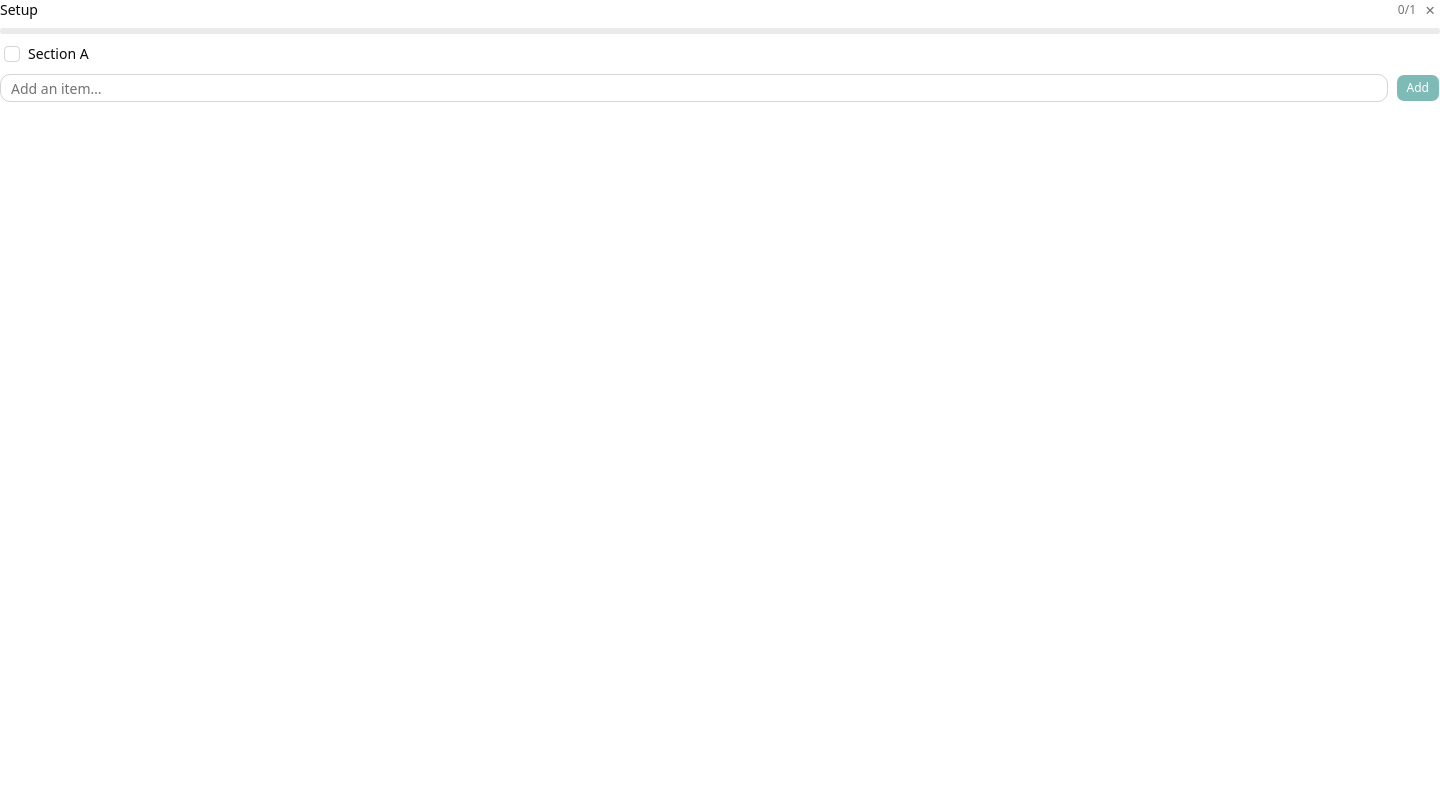
Test case: TaskChecklist › words on translation projects › rejects an invalid word count without saving
The image size is (1440, 810).
Click the text "Section A" at (58, 54), box [28,44,89,63]
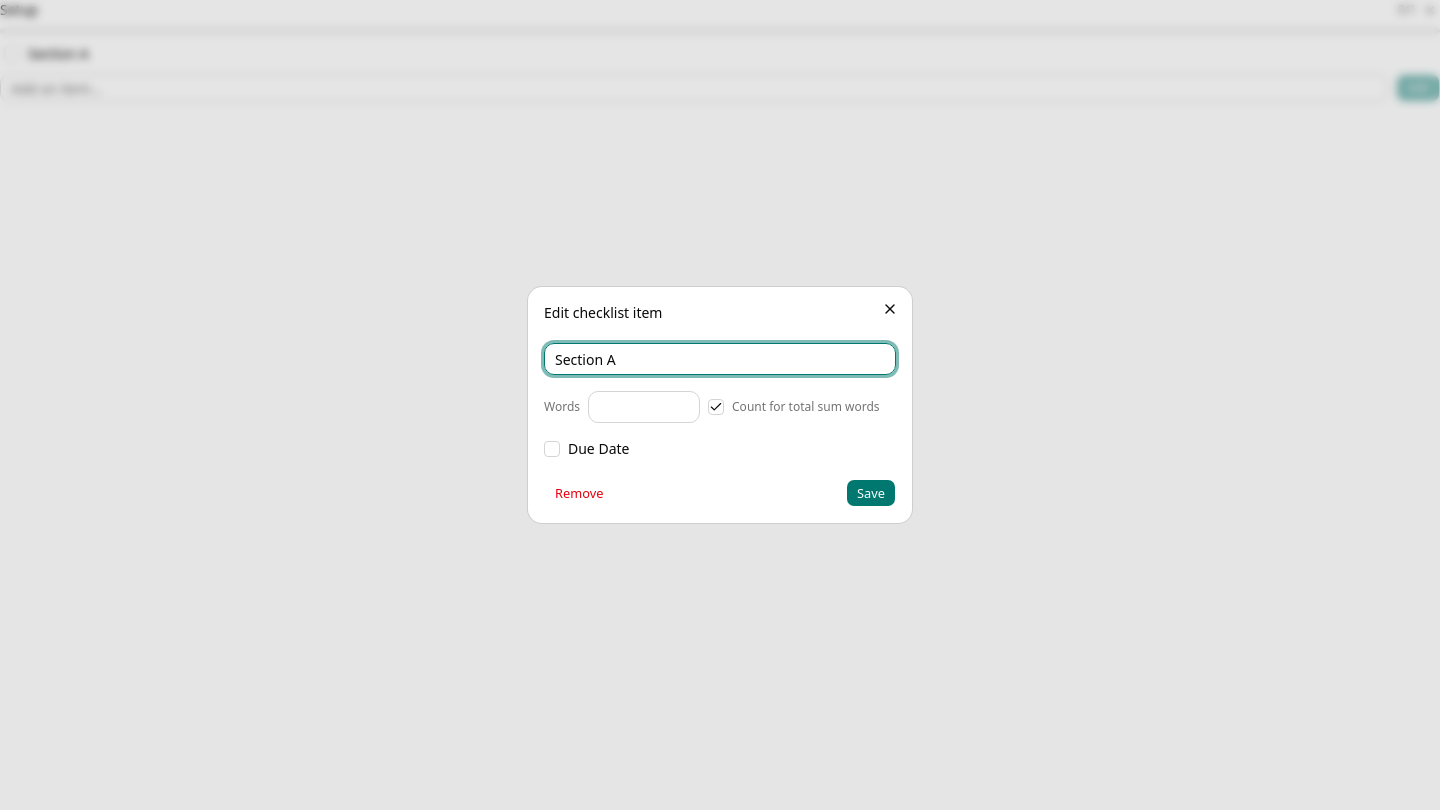
Type "-5" into the field labelled "Words" at (644, 407), box [588,391,700,423]
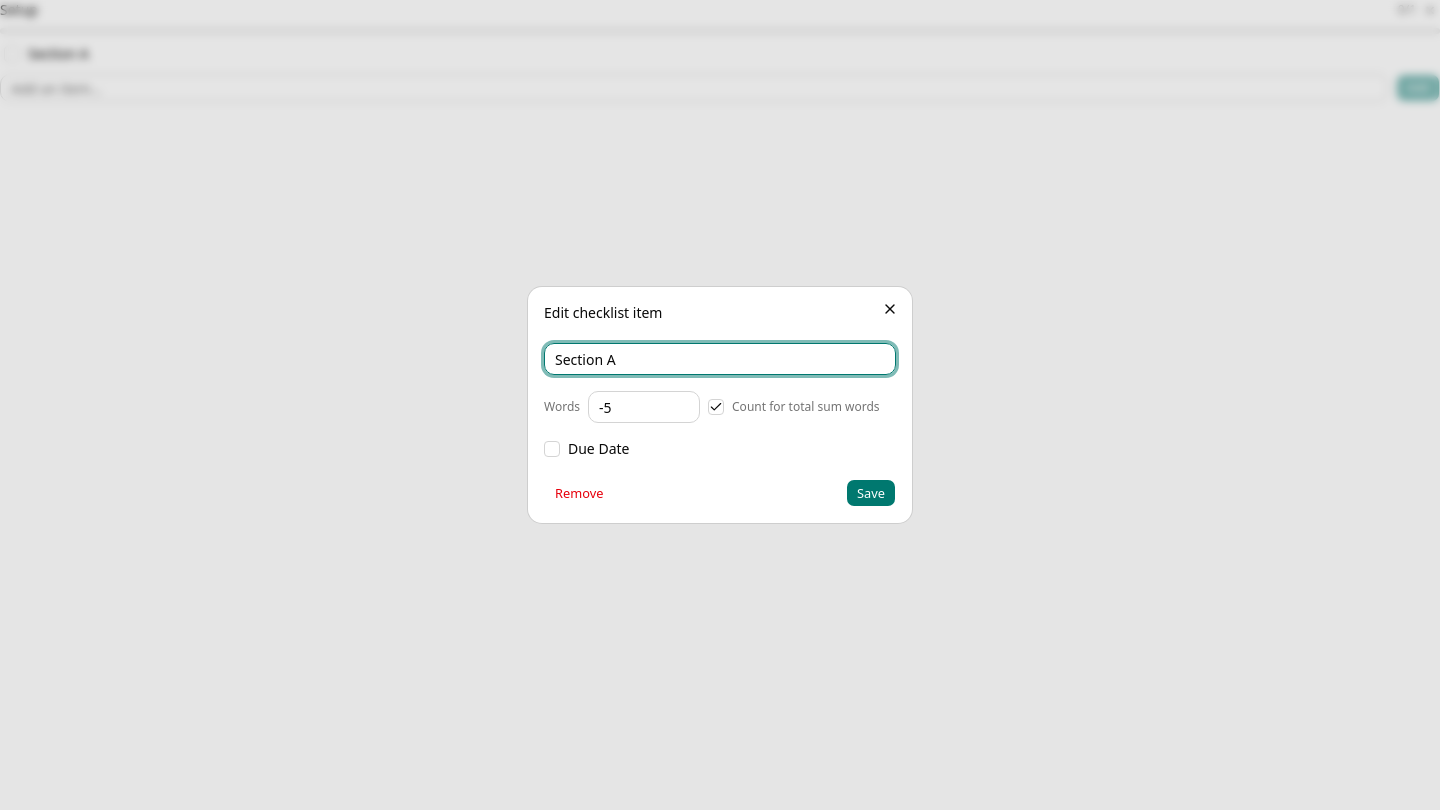
Click the button "Save" at (871, 493), box [846,479,896,507]
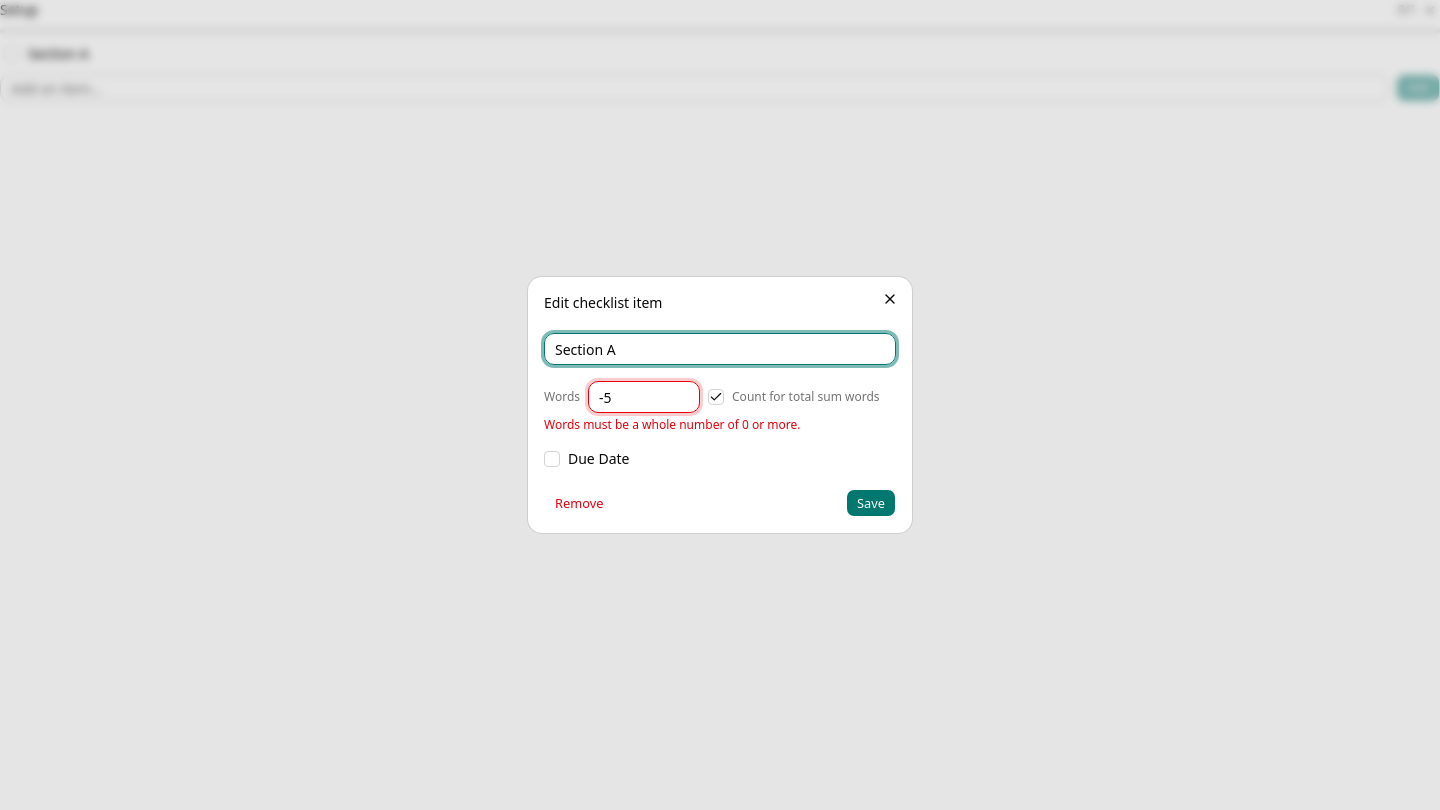
Expected: the text "Words must be a whole number of 0 or more." is shown, [544,416,800,433]
